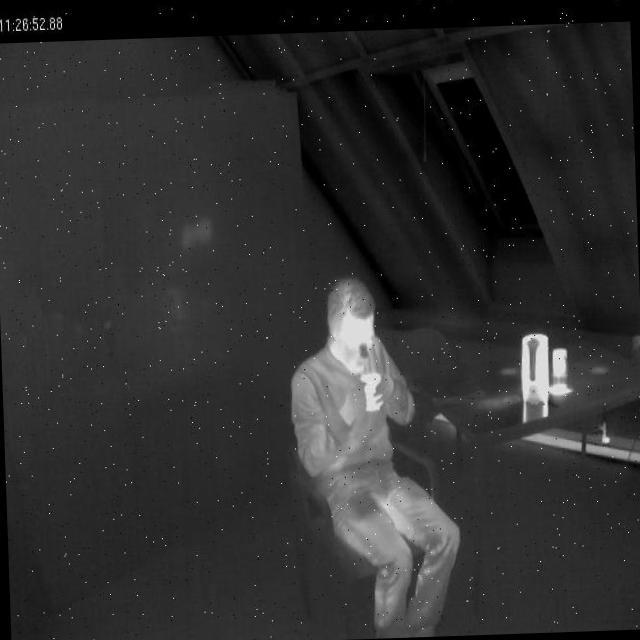person: (285, 276, 470, 638)
